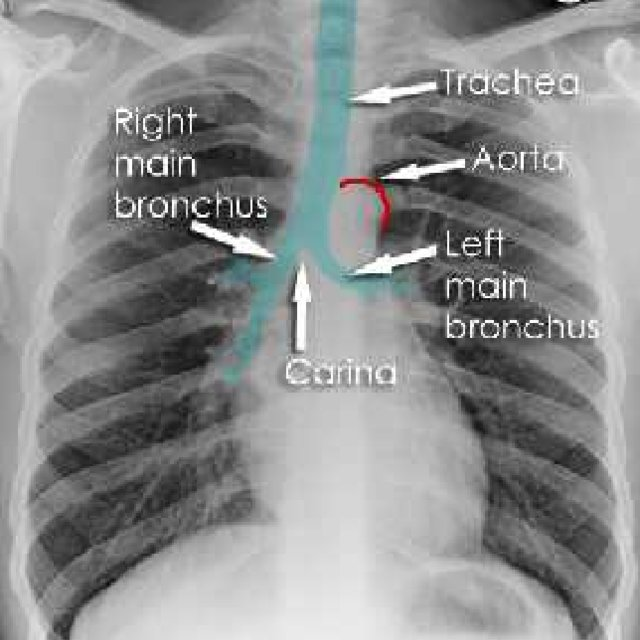telestration: (443, 225, 602, 342), (111, 106, 269, 220), (441, 65, 585, 105), (191, 216, 282, 262), (282, 355, 399, 388), (342, 242, 437, 280), (472, 142, 567, 175), (339, 175, 392, 228), (344, 77, 437, 106), (285, 263, 311, 352), (385, 157, 468, 180)
